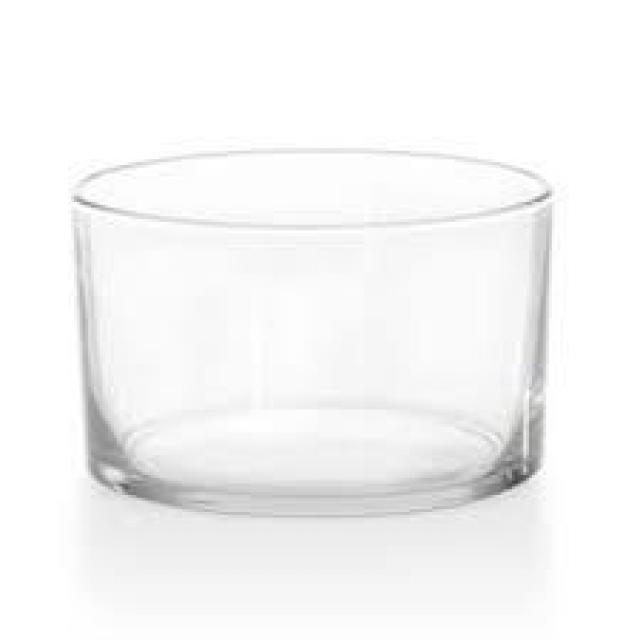non-organic waste: (73, 149, 553, 519)
